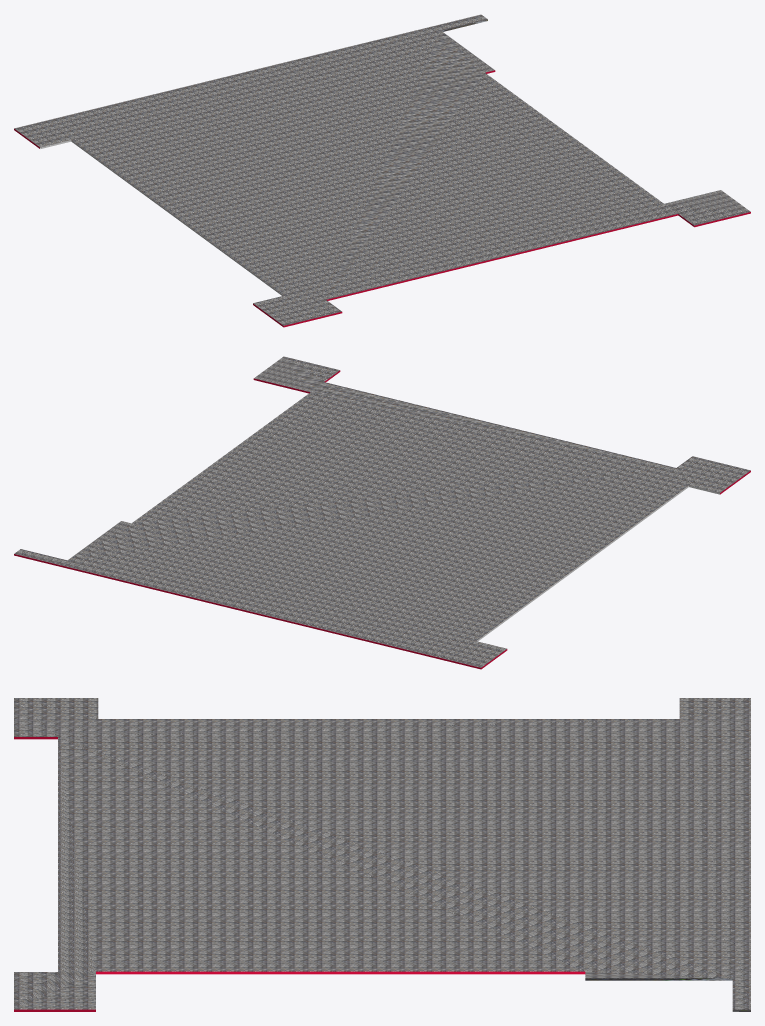
File: pisoParque.glb
3 renders of one model, top to bottom at view 1: azimuth 30°, elevation 25°; view 2: azimuth 150°, elevation 25°; view 3: azimuth 270°, elevation 25°, orthographic. The views are drawn at different scales.
Parts seen in each view (by area): view 1: PisoParque.001; view 2: PisoParque.001; view 3: PisoParque.001.
Part boxes in pixels (x1,y1,x2,y2): PisoParque.001: [14, 14, 750, 327]; PisoParque.001: [14, 356, 750, 669]; PisoParque.001: [14, 698, 750, 1011].
Bounding box in the file's own units: 60 × 0.2014 × 60.
2 materials, 1 textured.
